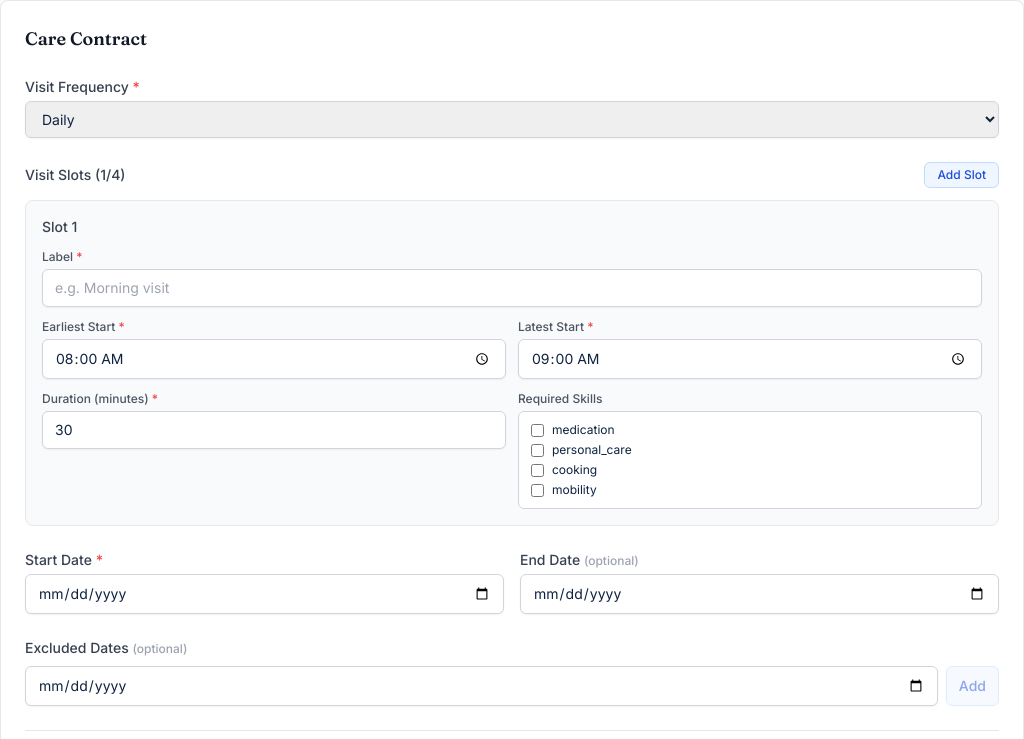
Test: ContractForm › shows day-of-week checkboxes only when specific_days is selected
The image size is (1024, 739).
Check: the text "Days of Week" is not shown
# Change to specific_days
Select "Specific Days" in the dropdown labelled "Visit Frequency *" at (512, 120), box [25,101,999,138]
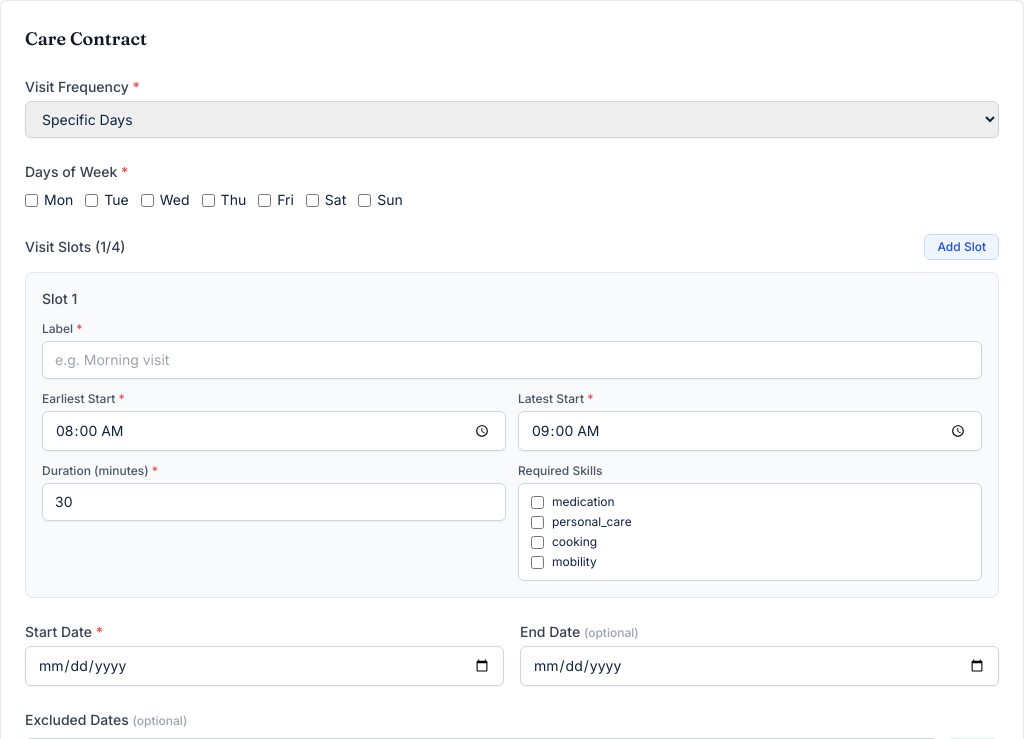
Check: the text "Days of Week *" is shown, box [25,163,128,180]
Check: the checkbox labelled "Mon" is shown, box [25,194,38,206]
Check: the checkbox labelled "Sun" is shown, box [358,194,371,206]
